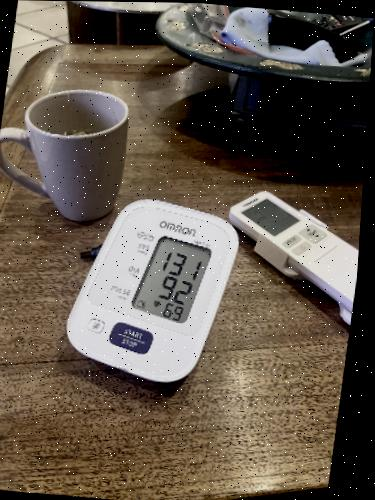bpm: (128, 230, 212, 326)
